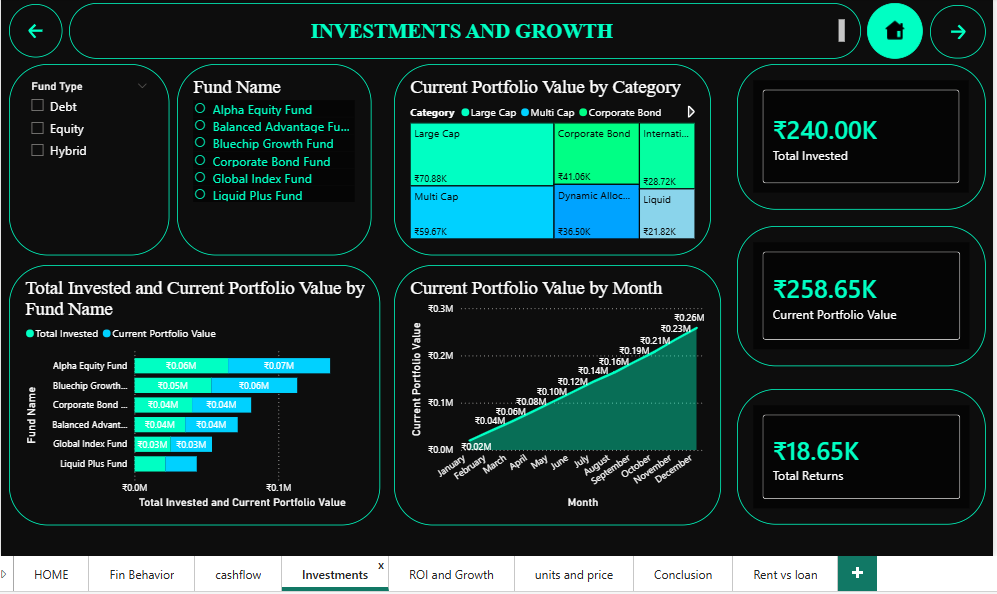

The page's visual inventory and layout, read from the dashboard file:
{"tool":"powerbi","page":{"name":"Investments","canvas":[1280,720],"ordinal":3},"visuals":[{"type":"slicer","fields":{"Values":["Dim_Fund.Fund Type"]},"box":[10.7,85.6,207.2,247.1],"z":0},{"type":"barChart","fields":{"Category":["Dim_Fund.Fund Name"],"Y":["_Measures.Total Invested","BankStatement.Current Portfolio Value"]},"box":[10.7,344.3,478.5,335.6],"z":1000},{"type":"areaChart","fields":{"Category":["DateTable.Date.Variation.Date Hierarchy.Month"],"Y":["BankStatement.Current Portfolio Value"]},"box":[507.7,344.3,422.1,335.6],"z":2000},{"type":"treemap","fields":{"Values":["BankStatement.Current Portfolio Value"],"Group":["Dim_Fund.Category"]},"box":[507.7,85.6,409.5,247.1],"z":3000},{"type":"listSlicer","fields":{"Values":["Dim_Fund.Fund Name"]},"box":[227.6,85.6,250.9,247.1],"z":4000},{"type":"cardVisual","fields":{"Data":["BankStatement.Current Portfolio Value"]},"box":[949.7,294.2,321.3,180.6],"z":5000},{"type":"cardVisual","fields":{"Data":["_Measures2.Total Returns"]},"box":[949.7,504.5,321.3,175.5],"z":6000},{"type":"cardVisual","fields":{"Data":["_Measures2.Total Invested"]},"box":[949.3,85.6,321,187.7],"z":7000},{"type":"textbox","box":[88,6.2,1022.2,72],"z":8000},{"type":"actionButton","box":[1117.3,6.2,72,72],"z":9000},{"type":"actionButton","box":[1198.2,8.9,72,69.3],"z":10000},{"type":"actionButton","box":[10.7,8,69.3,69.3],"z":11000}]}

Visuals, with their boxes on the page's 1280x720 design canvas (x1, y1, x2, y2). These are canvas units, not pixel positions in the 997x594 screenshot, which may show the page scaled, cropped or inside an application window:
slicer - Dim_Fund.Fund Type: 11, 86, 218, 333
barChart - Dim_Fund.Fund Name x _Measures.Total Invested: 11, 344, 489, 680
areaChart - DateTable.Date.Variation.Date Hierarchy.Month x BankStatement.Current Portfolio Value: 508, 344, 930, 680
treemap - BankStatement.Current Portfolio Value x Dim_Fund.Category: 508, 86, 917, 333
listSlicer - Dim_Fund.Fund Name: 228, 86, 478, 333
cardVisual - BankStatement.Current Portfolio Value: 950, 294, 1271, 475
cardVisual - _Measures2.Total Returns: 950, 504, 1271, 680
cardVisual - _Measures2.Total Invested: 949, 86, 1270, 273
textbox: 88, 6, 1110, 78
actionButton: 1117, 6, 1189, 78
actionButton: 1198, 9, 1270, 78
actionButton: 11, 8, 80, 77
